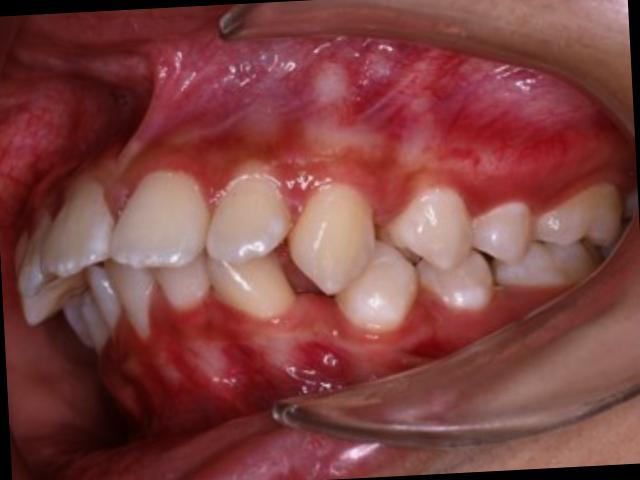canine class I: (200, 160, 430, 347)
molar class III 1/2: (486, 174, 636, 303)
